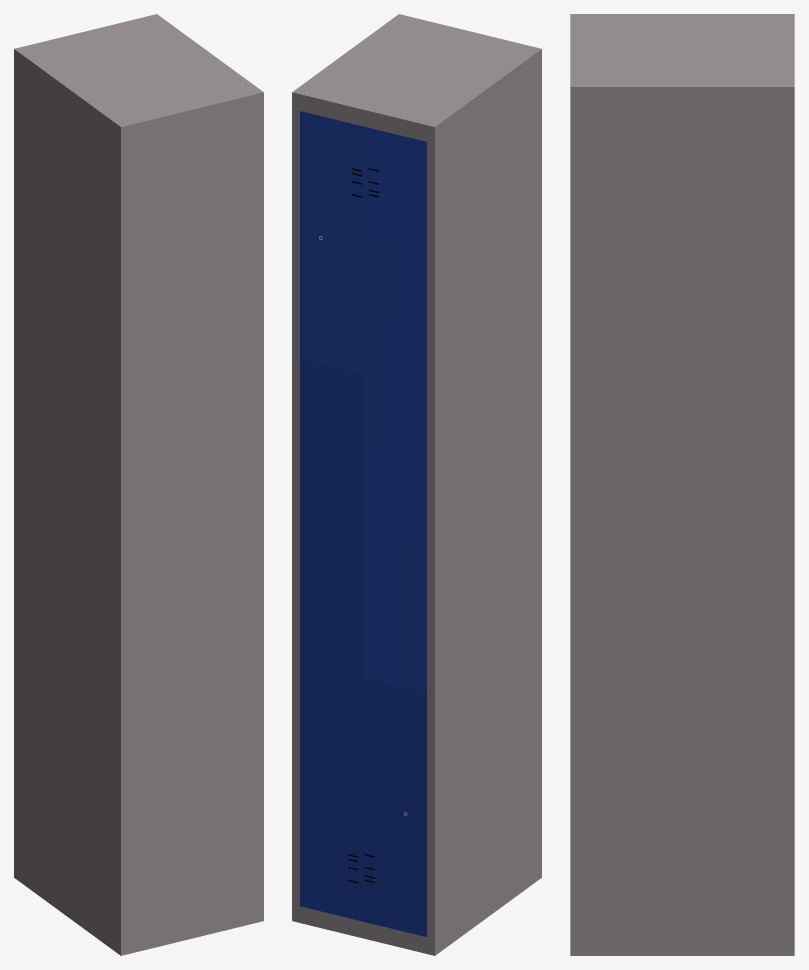
File: LockerBlue.glb
3 renders of one model, left to right at view 1: azimuth 30°, elevation 25°; view 2: azimuth 150°, elevation 25°; view 3: azimuth 270°, elevation 25°, orthographic. The views are drawn at different scales.
Visible parts, largest first — view 1: Cube; view 2: Cube, Cube.002, Cube.001; view 3: Cube.
Boxes of the visible parts, x1,y1,x2,y2 form: Cube: [14, 14, 263, 955]; Cube: [292, 14, 541, 955]; Cube.002: [300, 111, 426, 694]; Cube.001: [300, 360, 426, 937]; Cube: [570, 14, 794, 955].
Bounding box in the file's own units: 2 × 11.08 × 2.6.
